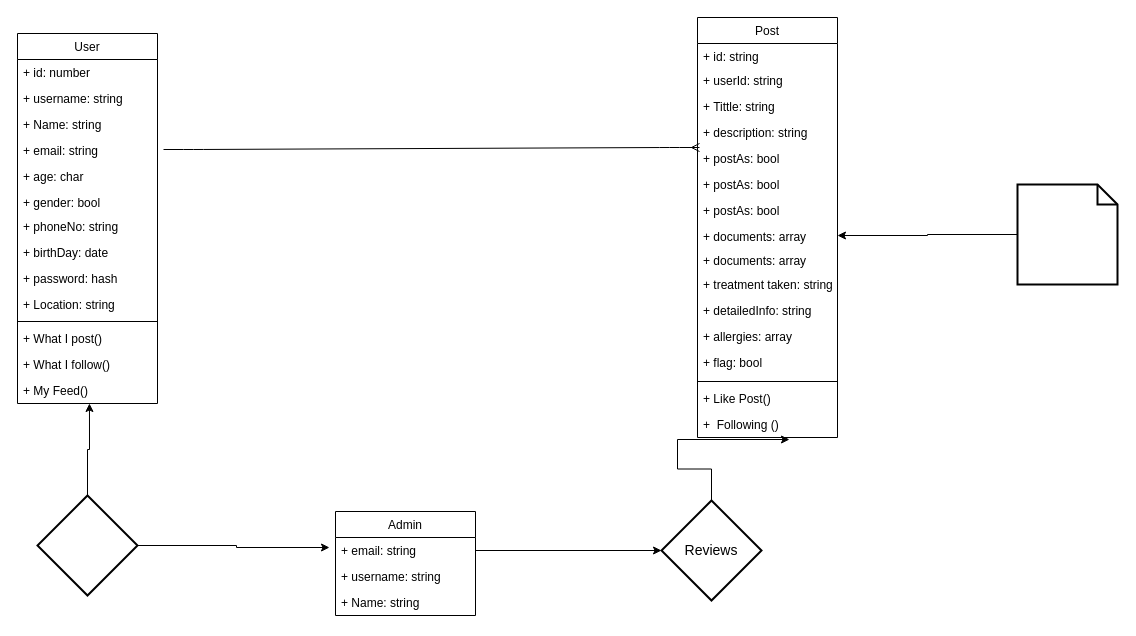
The diagram is 1136 pixels wide and 636 high, and some of its shapes have lost their labels. Here are the shapes that lost their labels. From the top down, the centre of each, then its label:
At (1067,234): "Each post has comments based on it's ID on Disqus".
At (87,545): "Is a special user".
